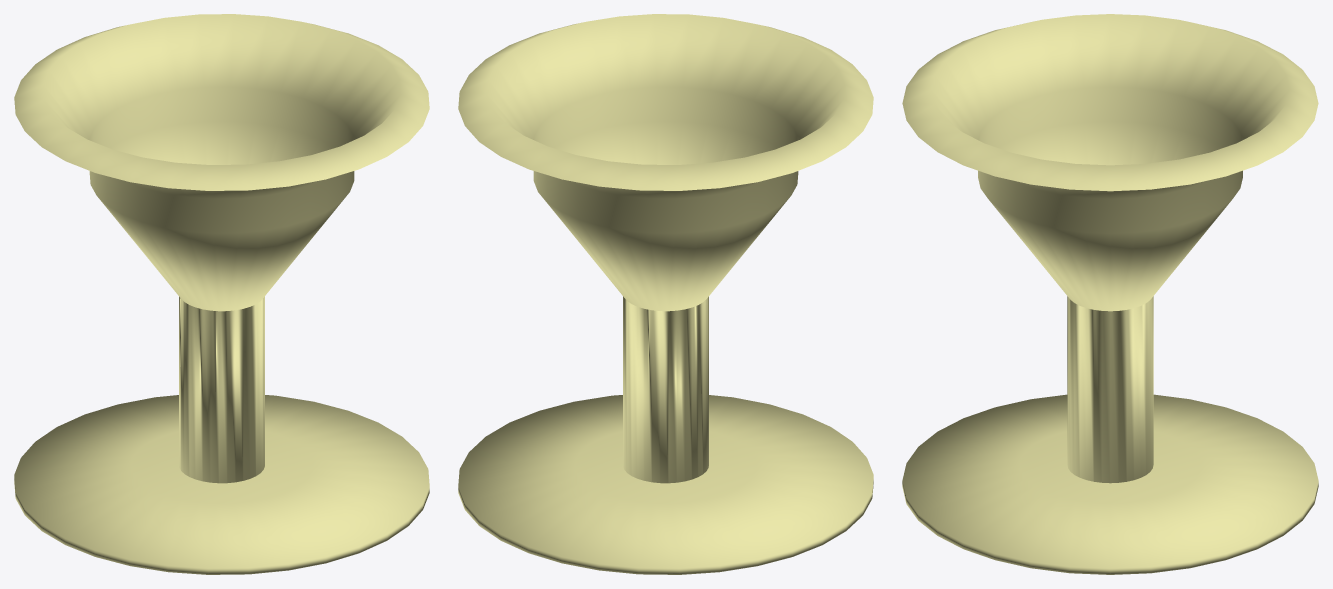
File: goblet.glb
3 views of the same model, side by side, from view 1: azimuth 30°, elevation 25°; view 2: azimuth 150°, elevation 25°; view 3: azimuth 270°, elevation 25° (orthographic).
Parts seen in each view (by area): view 1: Cylinder; view 2: Cylinder; view 3: Cylinder.
Boxes of the visible parts, x1=… form: Cylinder: x1=14, y1=14, x2=429, y2=574; Cylinder: x1=458, y1=14, x2=873, y2=574; Cylinder: x1=902, y1=14, x2=1318, y2=574.
Size of the model in its own units: 2 by 2.11 by 2.
